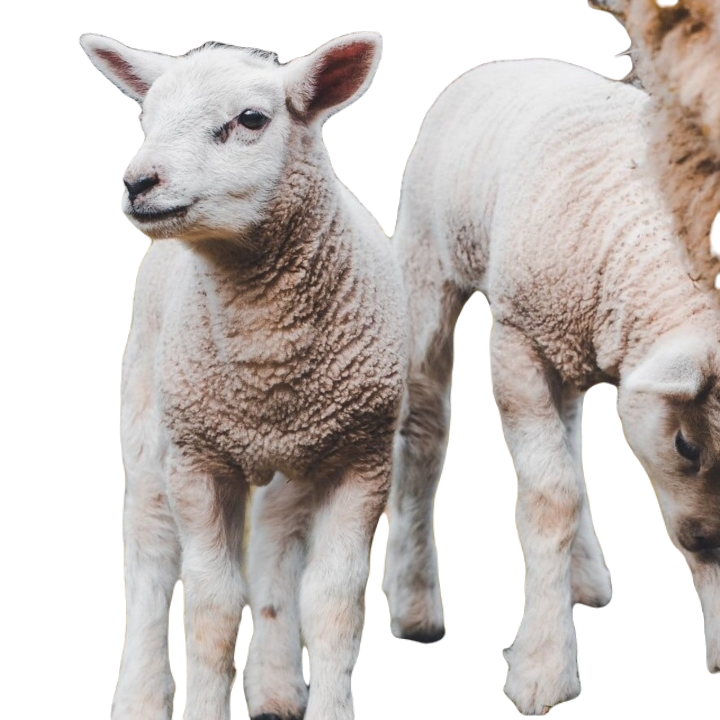Sheep: (72, 28, 407, 719)
